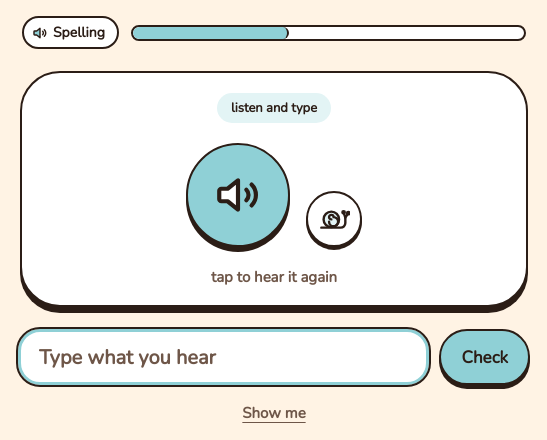
SpellingScreen: not quite (canvas P6) › in a practice round the tag only says "not quite"
The width and height of the screenshot is (547, 440).
Type "recieve" into the field. click: (224, 357)
box: [18,329,430,385]
Then press Enter
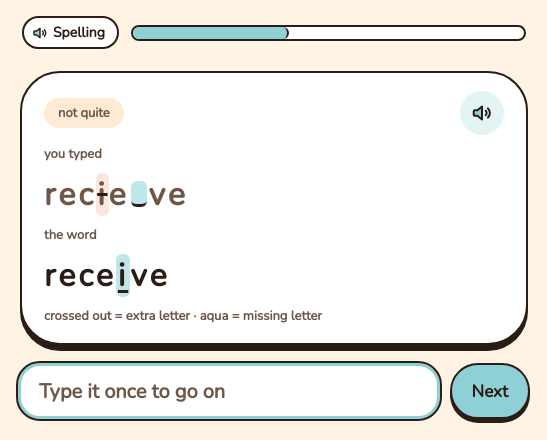
Check: the text "not quite" is shown, box [44,98,124,128]
